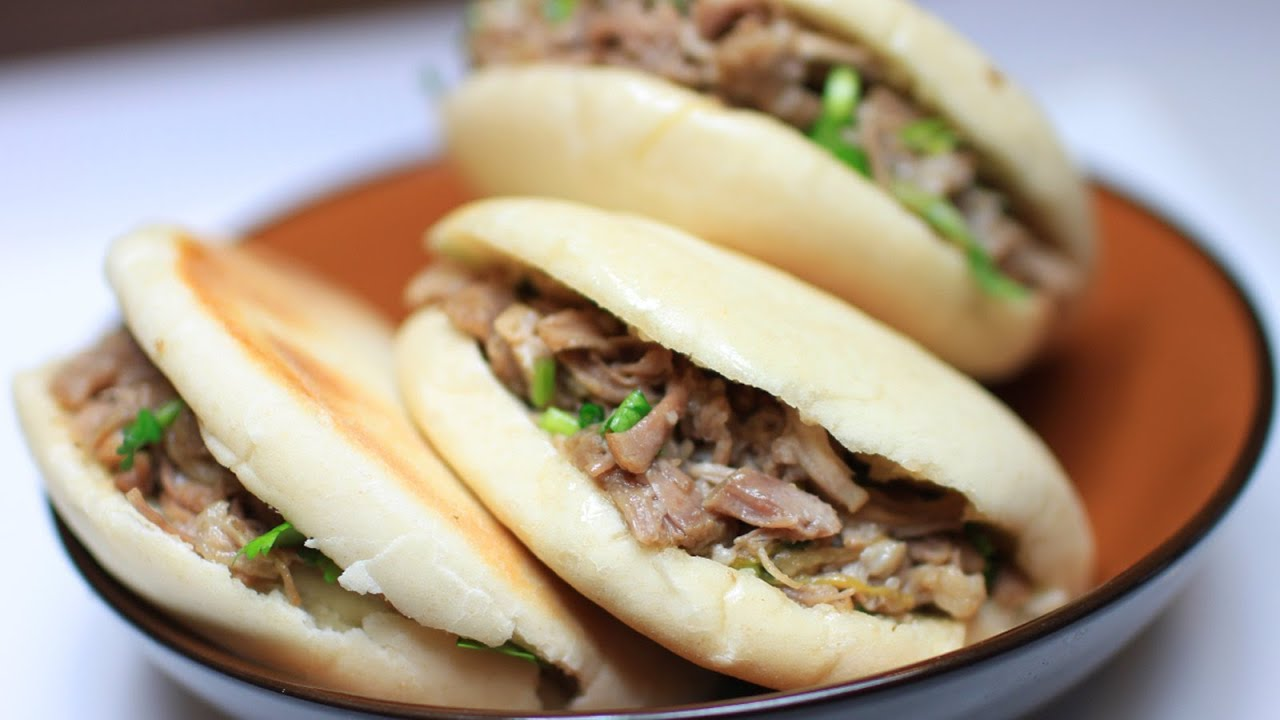hamburger_buns: (367, 178, 1082, 681), (98, 200, 576, 623)
